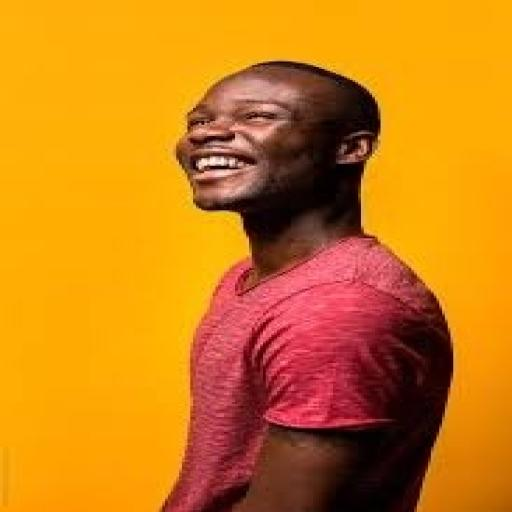laughing: (134, 52, 462, 510)
